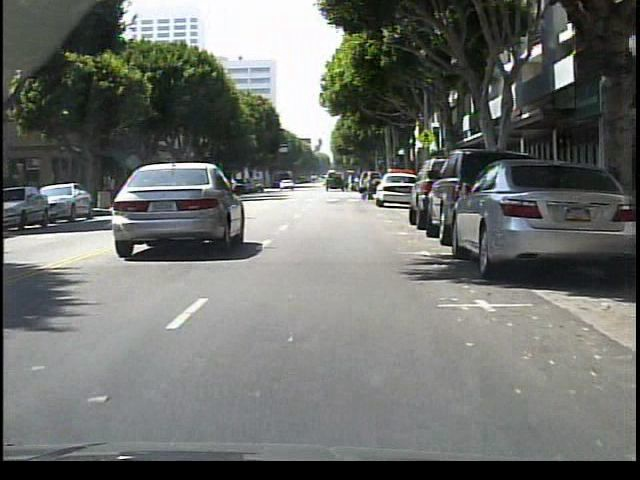person: (362, 172, 376, 202), (352, 171, 353, 191)
